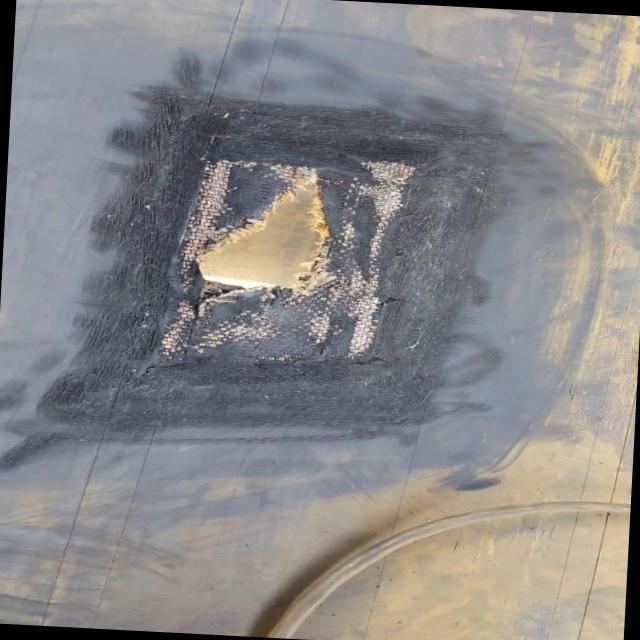Tear: (142, 142, 426, 384)
